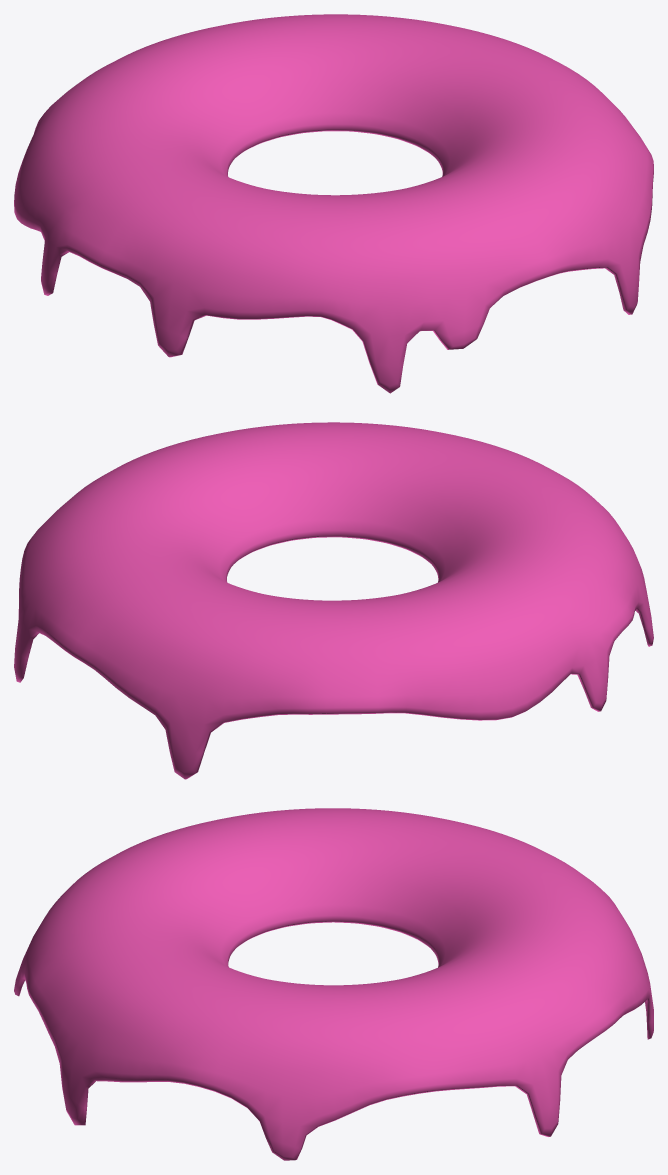
3 renders of one model, top to bottom at view 1: azimuth 30°, elevation 25°; view 2: azimuth 150°, elevation 25°; view 3: azimuth 270°, elevation 25°, orthographic. The views are drawn at different scales.
Parts seen in each view (by area): view 1: Icing; view 2: Icing; view 3: Icing.
Boxes of the visible parts, left/top/right/bottom form: Icing: left=14, top=14, right=653, bottom=393; Icing: left=14, top=422, right=653, bottom=779; Icing: left=14, top=808, right=653, bottom=1160.
Size of the model in its own units: 0.1532 by 0.037 by 0.1523.
